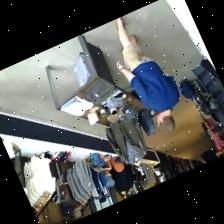person: (114, 17, 178, 132), (199, 122, 223, 157), (204, 121, 223, 151)
